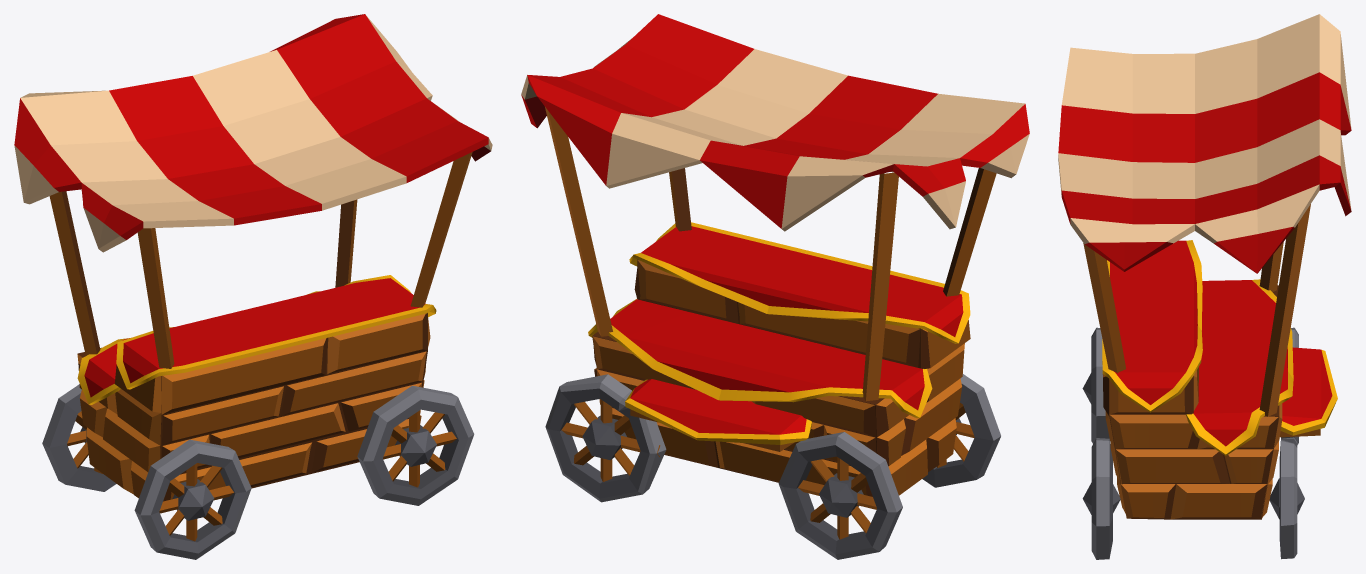
File: wm_cart_glb.glb
3 views of the same model, side by side, from view 1: azimuth 30°, elevation 25°; view 2: azimuth 150°, elevation 25°; view 3: azimuth 270°, elevation 25° (orthographic). The views are drawn at different scales.
Visible parts, largest first — view 1: cart_model; view 2: cart_model; view 3: cart_model.
Boxes of the visible parts, left/top/right/bottom form: cart_model: left=14, top=14, right=492, bottom=559; cart_model: left=521, top=14, right=1029, bottom=559; cart_model: left=1058, top=14, right=1351, bottom=559.
Size of what is drawn, in the model's own units: 3.99 by 3.79 by 2.51.
1 material, 1 textured.
